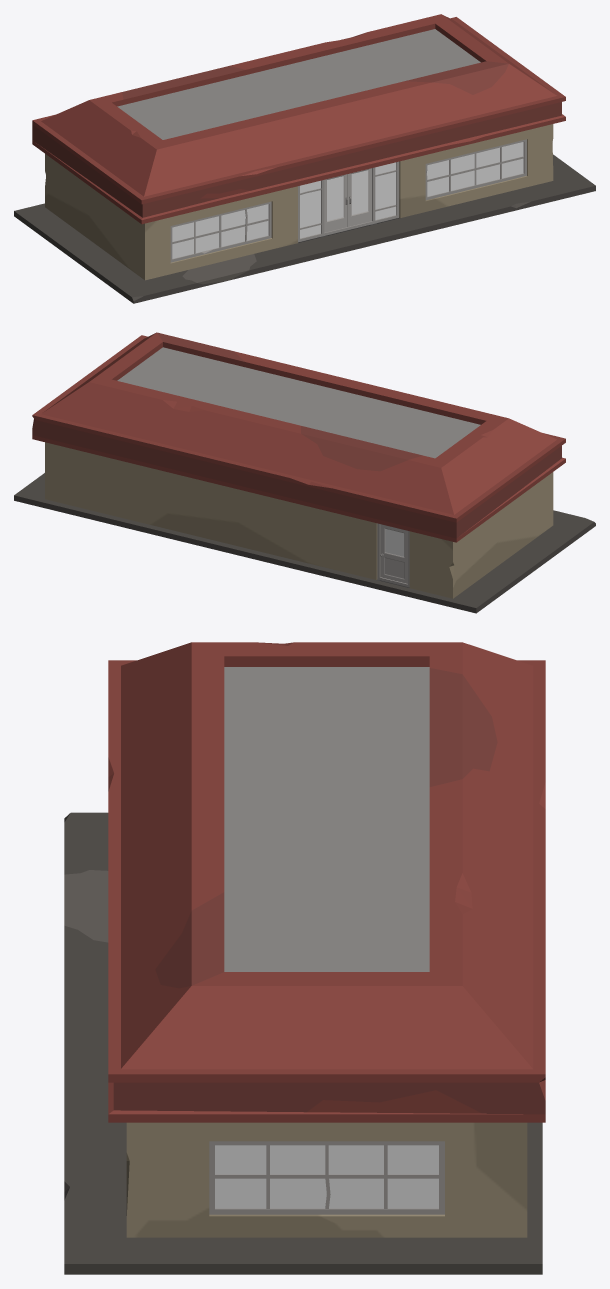
The model's file is SM_Bldg_City_Shop_Big_04.fbx.
The picture shows the model from 3 angles, top to bottom: view 1: azimuth 30°, elevation 25°; view 2: azimuth 150°, elevation 25°; view 3: azimuth 270°, elevation 25°; orthographic projection. The views are drawn at different scales.
Parts seen in each view (by area): view 1: SM_Bldg_City_Shop_Big_04, SM_Bldg_City_Shop_Big_04_Glass; view 2: SM_Bldg_City_Shop_Big_04; view 3: SM_Bldg_City_Shop_Big_04, SM_Bldg_City_Shop_Big_04_Glass.
Boxes of the visible parts, x1,y1,x2,y2 form: SM_Bldg_City_Shop_Big_04: (14,14,595,303); SM_Bldg_City_Shop_Big_04_Glass: (172,142,523,258); SM_Bldg_City_Shop_Big_04: (14,332,595,613); SM_Bldg_City_Shop_Big_04: (64,642,545,1274); SM_Bldg_City_Shop_Big_04_Glass: (215,1145,438,1208).
Bounding box in the file's own units: 1812 × 440 × 817.
